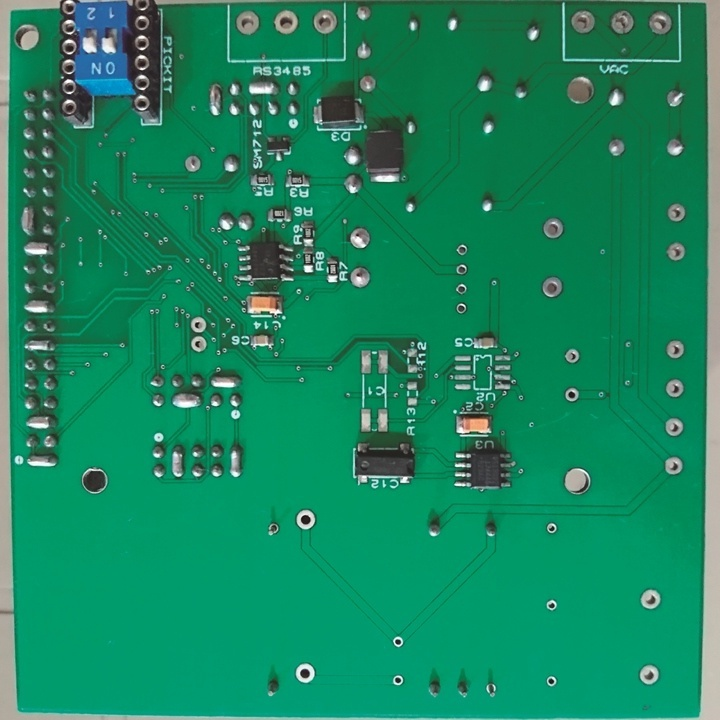F: (567, 6, 599, 35), (272, 6, 301, 37), (311, 6, 339, 38), (608, 6, 636, 37), (645, 7, 673, 38), (538, 272, 566, 300), (233, 9, 261, 37), (346, 263, 373, 292), (539, 215, 567, 242), (347, 224, 374, 251), (293, 506, 319, 533), (664, 337, 689, 363), (638, 587, 663, 613), (636, 661, 662, 686), (664, 200, 688, 226), (293, 660, 317, 686), (353, 38, 377, 64), (664, 83, 687, 110), (664, 240, 688, 265), (664, 134, 688, 158), (356, 71, 380, 95), (662, 413, 685, 438), (606, 133, 629, 158), (664, 452, 686, 478), (664, 377, 687, 401), (353, 3, 375, 25), (181, 152, 204, 173), (188, 332, 209, 354), (186, 315, 209, 335), (561, 345, 581, 367), (562, 383, 581, 406), (483, 678, 501, 698), (265, 518, 282, 539), (453, 280, 470, 296), (390, 633, 404, 652), (544, 519, 559, 536), (543, 597, 559, 612), (545, 673, 559, 690), (391, 671, 404, 688), (454, 263, 469, 277), (454, 302, 469, 316), (456, 242, 469, 256)
P: (246, 76, 282, 98), (21, 412, 60, 432), (24, 450, 60, 471), (19, 239, 58, 258), (227, 440, 246, 479), (206, 80, 225, 118), (207, 372, 245, 390), (169, 391, 204, 410), (170, 442, 187, 481), (18, 202, 36, 238), (21, 338, 57, 354), (21, 297, 54, 314)
